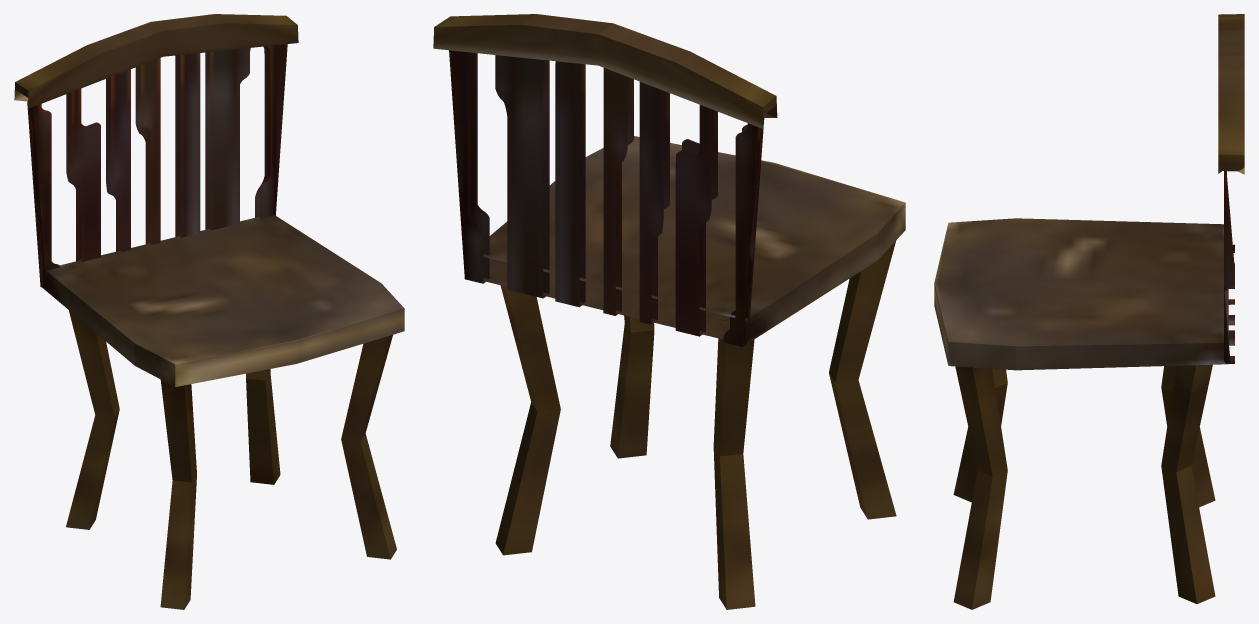
The model's file is chair.fbx.
The picture shows the model from 3 angles, left to right: view 1: azimuth 30°, elevation 25°; view 2: azimuth 150°, elevation 25°; view 3: azimuth 270°, elevation 25°; orthographic projection. The views are drawn at different scales.
Parts seen in each view (by area): view 1: Chair; view 2: Chair; view 3: Chair.
Part boxes in pixels (x1,y1,x2,y2): Chair: (14,14,404,609); Chair: (433,14,905,609); Chair: (934,14,1244,609).
Size of the model in its own units: 76.56 by 124 by 70.75.
1 material, 1 textured.
